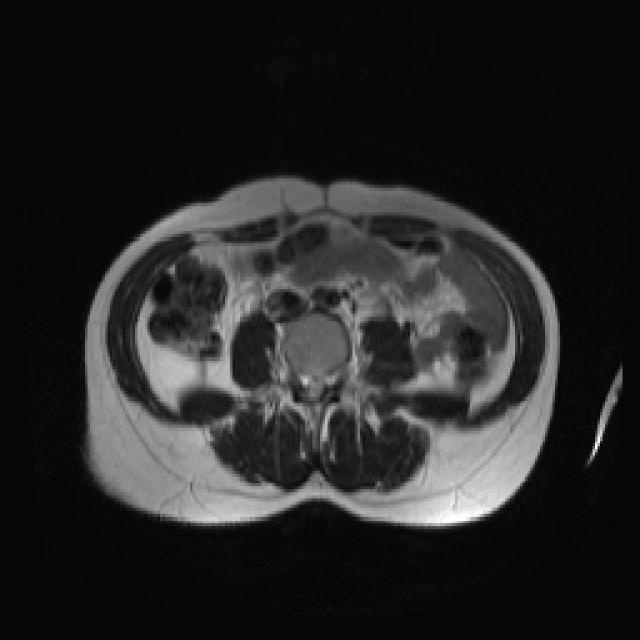sag: (150, 344, 205, 396)
